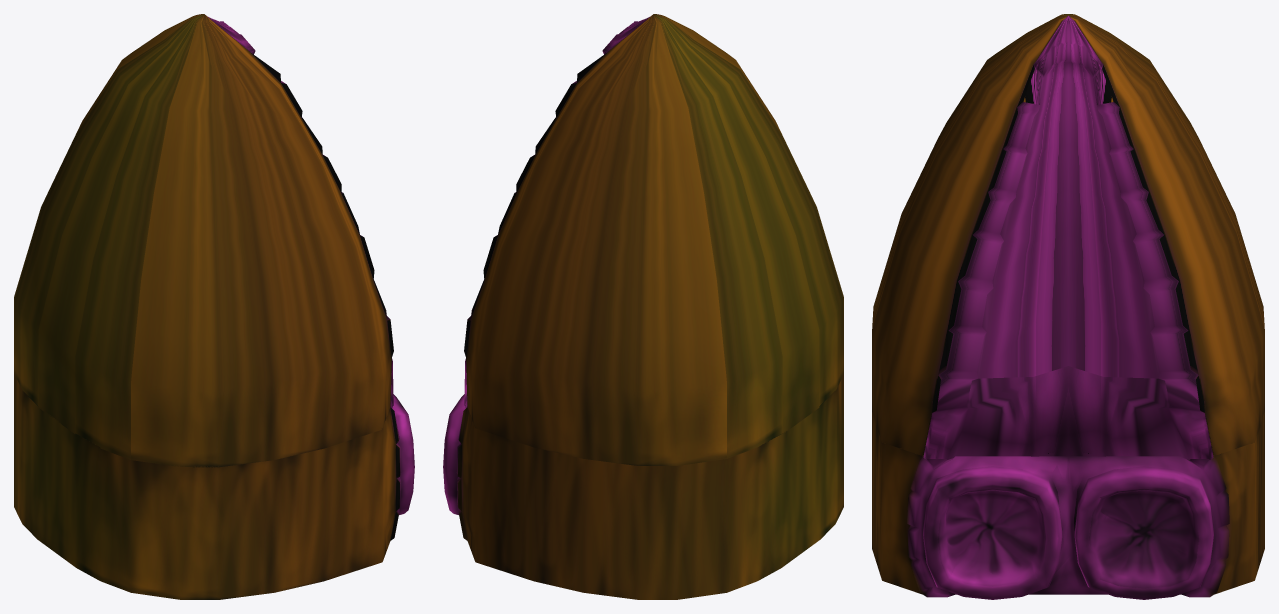
Rendered from tentacle.fbx.
3 views of the same model, side by side, from view 1: azimuth 30°, elevation 25°; view 2: azimuth 150°, elevation 25°; view 3: azimuth 270°, elevation 25° (orthographic). The views are drawn at different scales.
Parts seen in each view (by area): view 1: Tip, Segment; view 2: Tip, Segment; view 3: Tip, Segment.
Part boxes in pixels (x1,y1,x2,y2): Tip: (14,14,393,467); Segment: (14,374,414,599); Tip: (464,14,843,465); Segment: (443,374,843,599); Tip: (872,14,1264,459); Segment: (872,411,1264,599).
Size of the model in its own units: 228 by 380 by 260.
2 materials, 2 textured.
